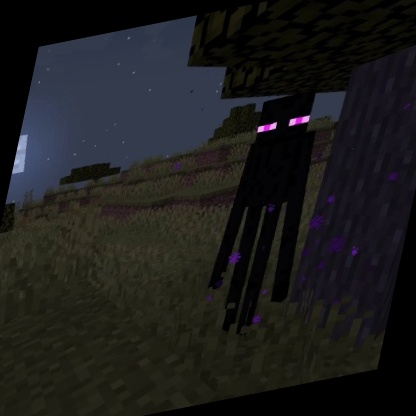enderman: (189, 83, 336, 349)
